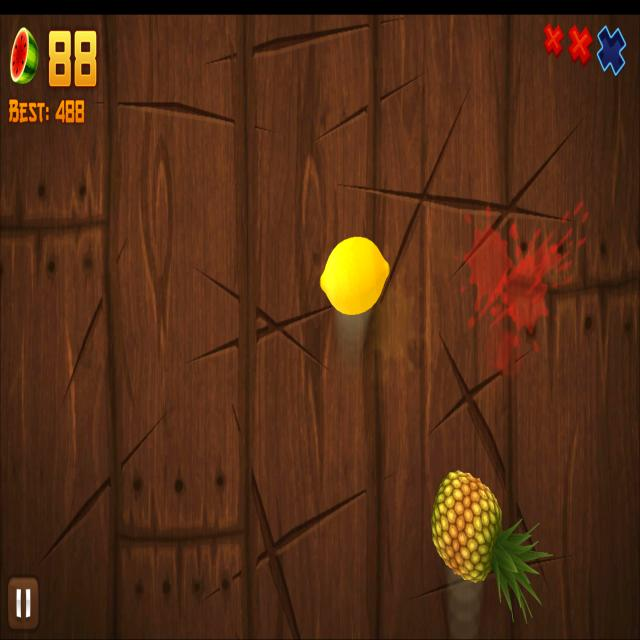fruit: (432, 469, 502, 583), (319, 236, 392, 316)
